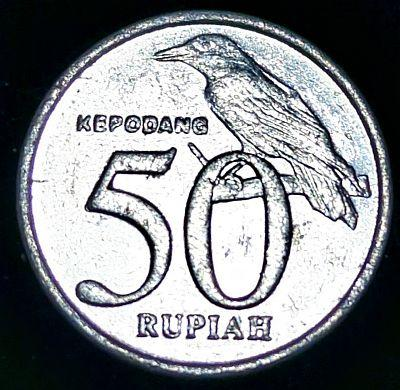coin_50_1999: (18, 13, 395, 390)
